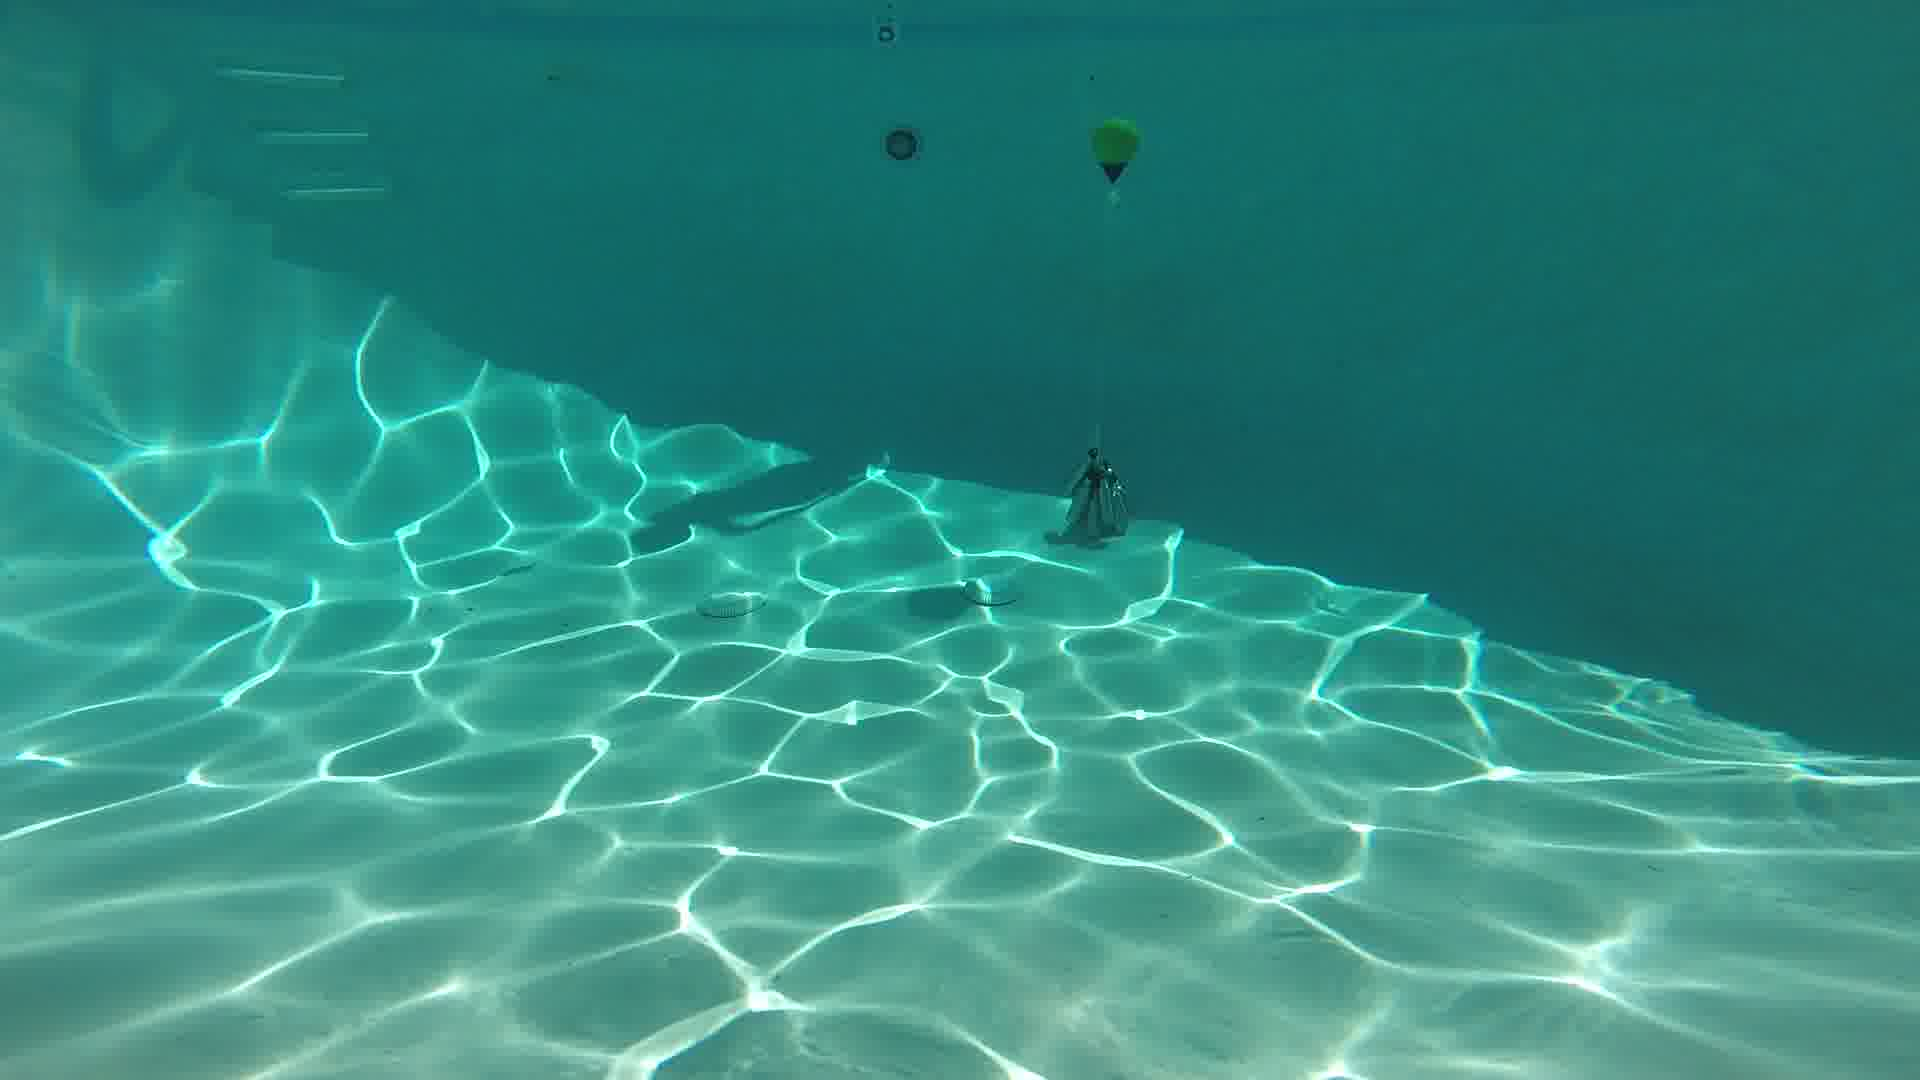yellow_buoy: (1093, 117, 1139, 186)
